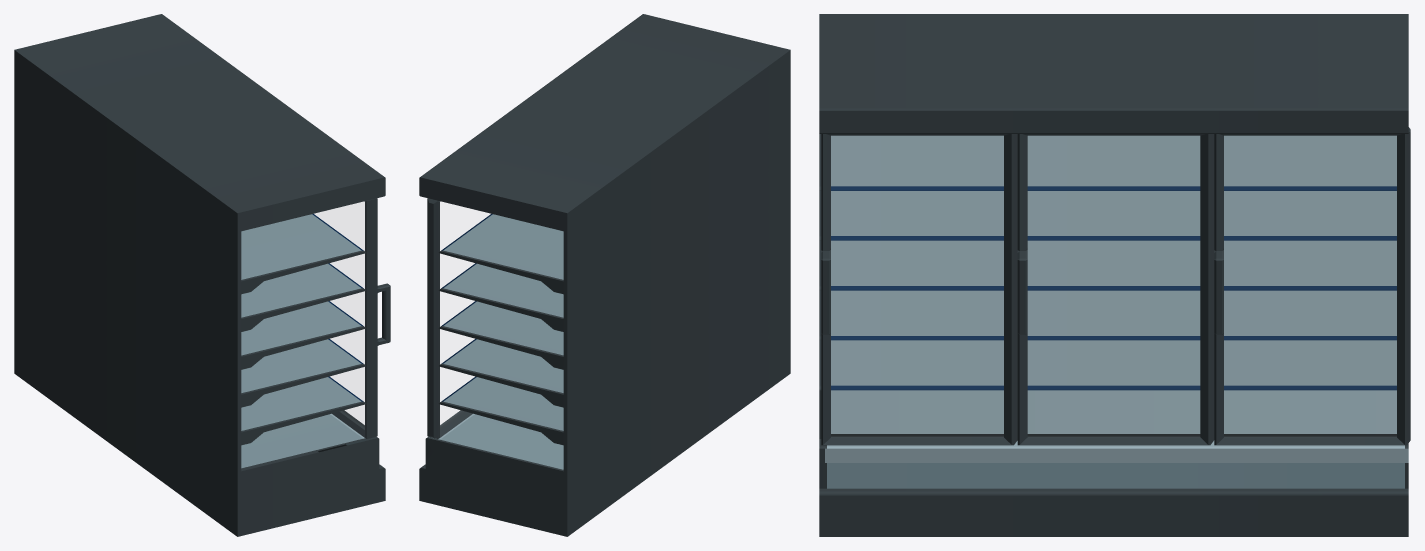
File: Freezer_Mid_5row.glb
The picture shows the model from 3 angles, left to right: view 1: azimuth 30°, elevation 25°; view 2: azimuth 150°, elevation 25°; view 3: azimuth 270°, elevation 25°; orthographic projection. The views are drawn at different scales.
Visible parts, largest first — view 1: Freezer_Mid_5row; view 2: Freezer_Mid_5row; view 3: Freezer_Mid_5row.
Boxes of the visible parts, left/top/right/bottom form: Freezer_Mid_5row: left=14, top=14, right=390, bottom=536; Freezer_Mid_5row: left=419, top=14, right=790, bottom=536; Freezer_Mid_5row: left=819, top=14, right=1410, bottom=536.
Size of the model in its own units: 1.2 by 2.4 by 3.01.
3 materials, 2 textured.
